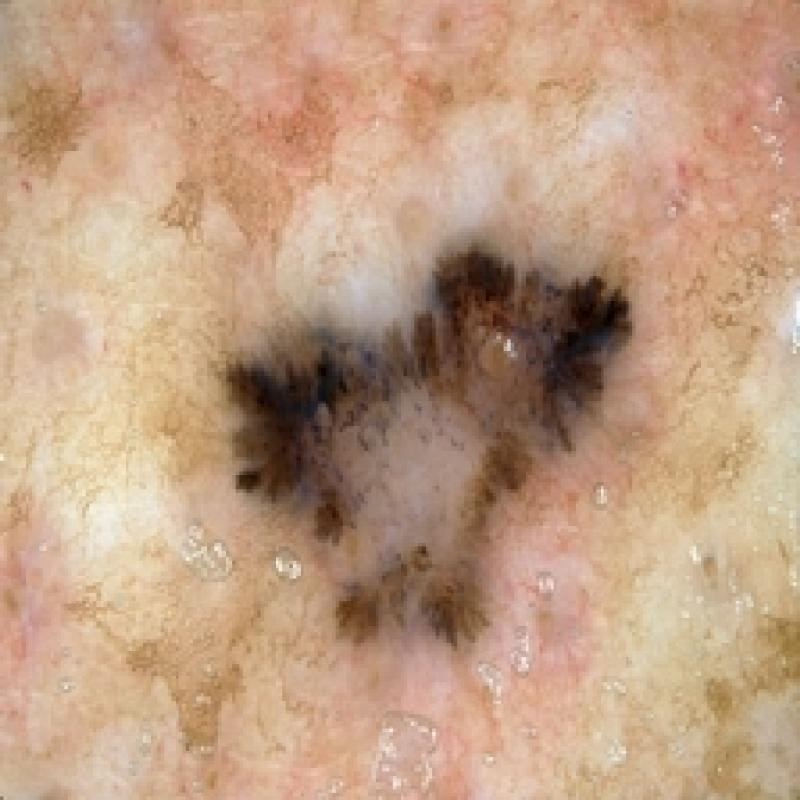malignant: (197, 247, 668, 682)
